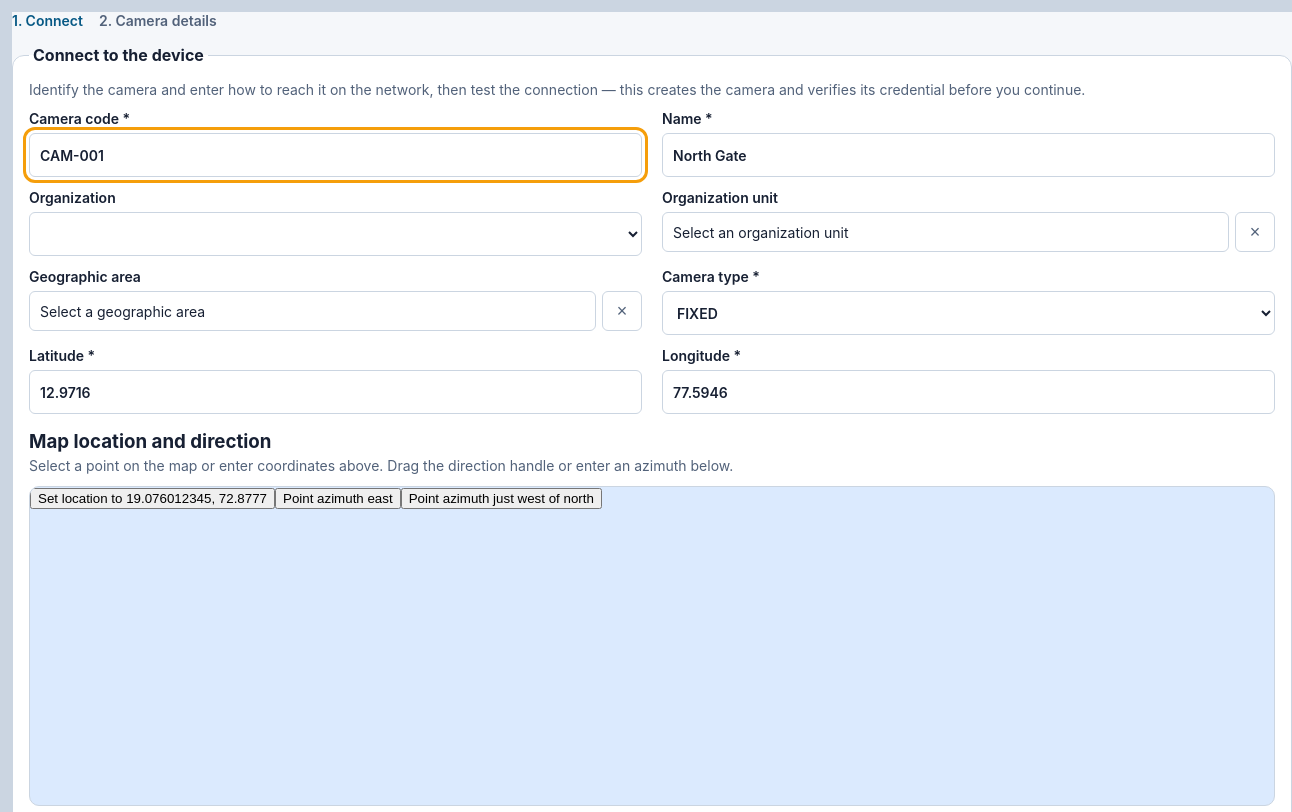
Test: CameraForm › updates the coordinate fields when a map location is selected
Step 1. Click the button "Set location to 19.076012345, 72.8777" → x=152, y=498, box [30,488,275,509]
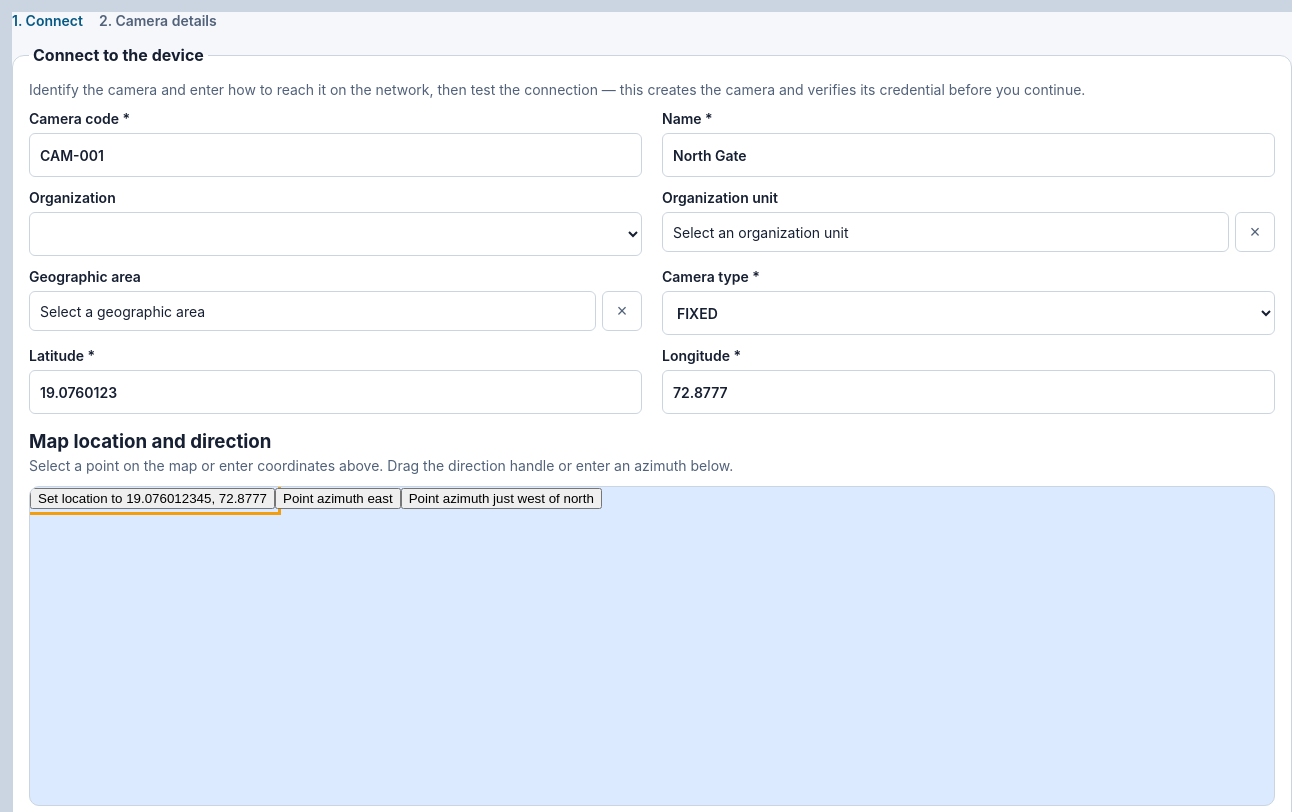
Result: the field labelled "Latitude *" holds "19.0760123" at [29,370,642,414]
Result: the field labelled "Longitude *" holds "72.8777" at [662,370,1275,414]
